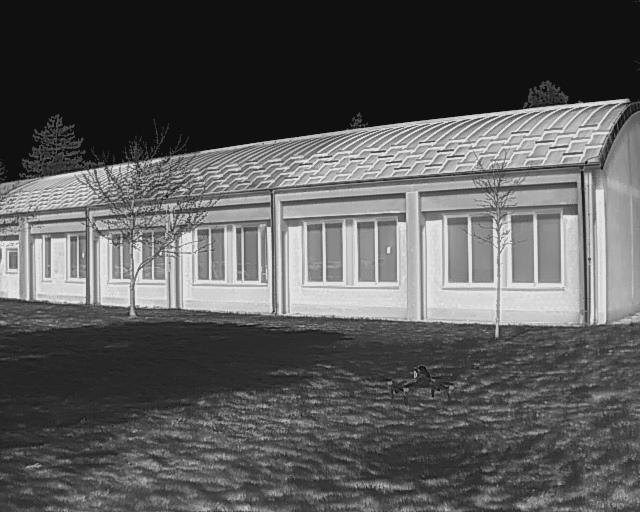drone: (372, 360, 474, 414)
